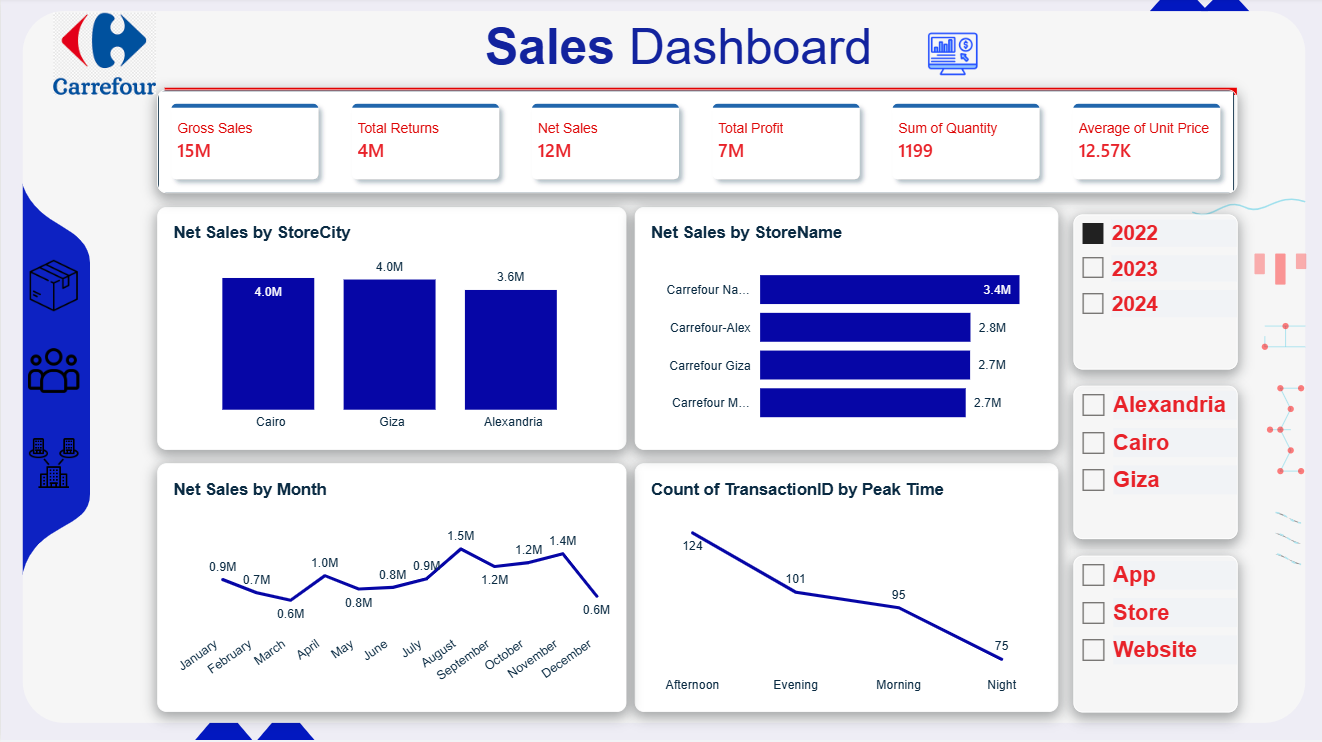

The dashboard page shown, as its layout file describes it:
{"tool":"powerbi","page":{"name":"Sales Bashboard","canvas":[1280,720],"ordinal":0},"visuals":[{"type":"slicer","fields":{"Values":["Sheet1.StoreCity"]},"box":[1078.6,402.1,182.5,148.2],"z":0},{"type":"slicer","fields":{"Values":["Sheet1.OrderDate.Variation.Date Hierarchy.Year"]},"box":[1078.6,234.6,183.9,149.6],"z":1000},{"type":"textbox","box":[208.6,13.7,890.6,75.5],"z":2000},{"type":"lineChart","fields":{"Category":["Sheet1.Peak Time"],"Y":["CountNonNull(Sheet1.TransactionID)"]},"box":[555.7,476.2,507.7,244.3],"z":3000},{"type":"columnChart","fields":{"Category":["Sheet1.StoreCity"],"Y":["Sheet1.Net Sales"]},"box":[0,233.3,542,233.3],"z":4000},{"type":"barChart","fields":{"Category":["Sheet1.StoreName"],"Y":["Sheet1.Net Sales"]},"box":[555.7,233.3,507.7,233.3],"z":5000},{"type":"lineChart","fields":{"Category":["Sheet1.OrderDate.Variation.Date Hierarchy.Month"],"Y":["Sheet1.Net Sales"]},"box":[0,476.2,542,244.3],"z":6000},{"type":"cardVisual","fields":{"Data":["Sheet1.Measuer 1","Sheet1.Total Returns","Sheet1.Net Sales","Sheet1.Total Profit","Sum(Sheet1.Quantity)","Avg(Sheet1.Unit Price)"]},"box":[0,89.3,1260.7,129.1],"z":7000},{"type":"image","box":[867.2,0,97.4,89.2],"z":8000},{"type":"image","box":[0,0,197.6,98.8],"z":9000},{"type":"slicer","fields":{"Values":["Sheet1.OrderChannel"]},"box":[1078.6,558.5,182.5,150.9],"z":10000}]}

Visuals, with their boxes in screenshot pixels (x1, y1, x2, y2), scaled from the page's 1280x720 canvas onto the 1322x742 screenshot:
slicer - Sheet1.StoreCity: [x1=1114, y1=414, x2=1302, y2=567]
slicer - Sheet1.OrderDate.Variation.Date Hierarchy.Year: [x1=1114, y1=242, x2=1304, y2=396]
textbox: [x1=215, y1=14, x2=1135, y2=92]
lineChart - Sheet1.Peak Time x CountNonNull(Sheet1.TransactionID): [x1=574, y1=491, x2=1098, y2=741]
columnChart - Sheet1.StoreCity x Sheet1.Net Sales: [x1=0, y1=240, x2=560, y2=481]
barChart - Sheet1.StoreName x Sheet1.Net Sales: [x1=574, y1=240, x2=1098, y2=481]
lineChart - Sheet1.OrderDate.Variation.Date Hierarchy.Month x Sheet1.Net Sales: [x1=0, y1=491, x2=560, y2=741]
cardVisual - Sheet1.Measuer 1 x Sheet1.Total Returns: [x1=0, y1=92, x2=1302, y2=225]
image: [x1=896, y1=0, x2=996, y2=92]
image: [x1=0, y1=0, x2=204, y2=102]
slicer - Sheet1.OrderChannel: [x1=1114, y1=576, x2=1302, y2=731]
